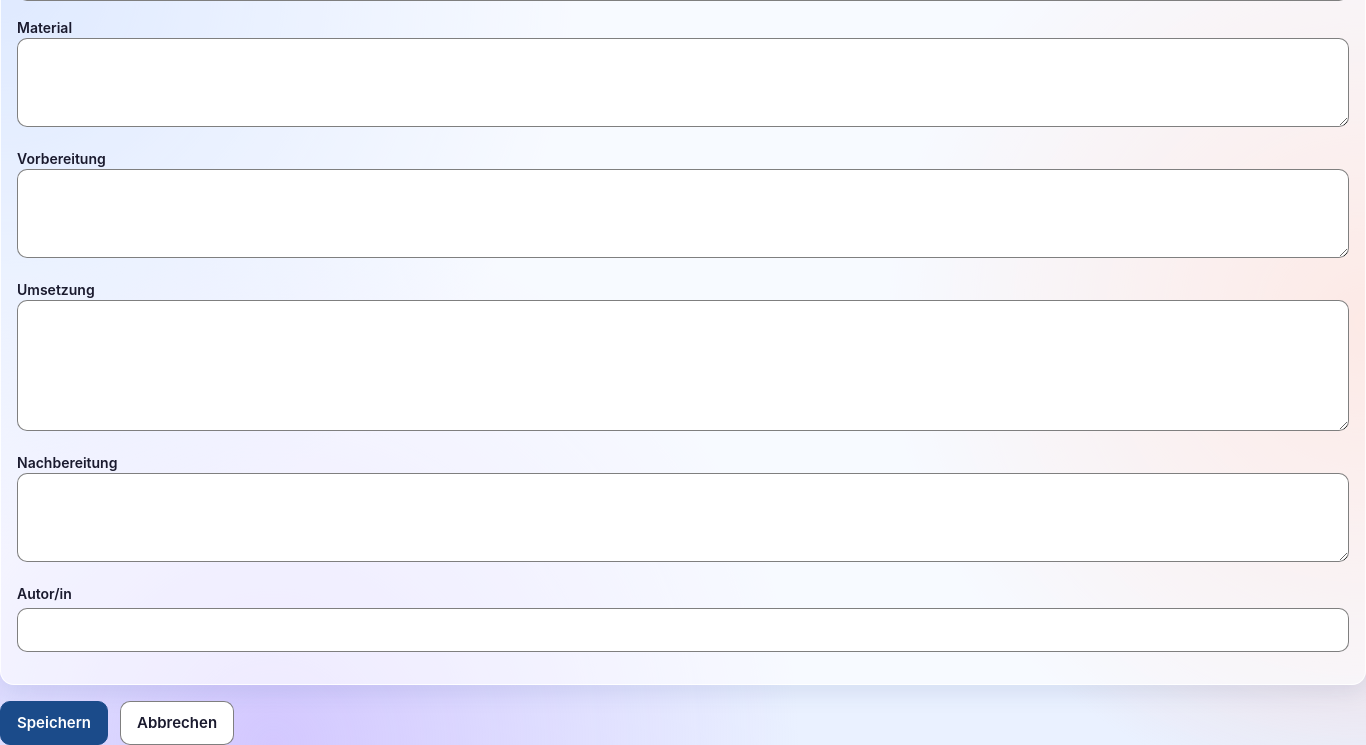
Test: Programmpunkt anlegen und bearbeiten › prüft Name und zeigt Fehler
(page scrolled)
Click the button "Speichern": (54, 723) [0,701,108,744]
(page scrolled)
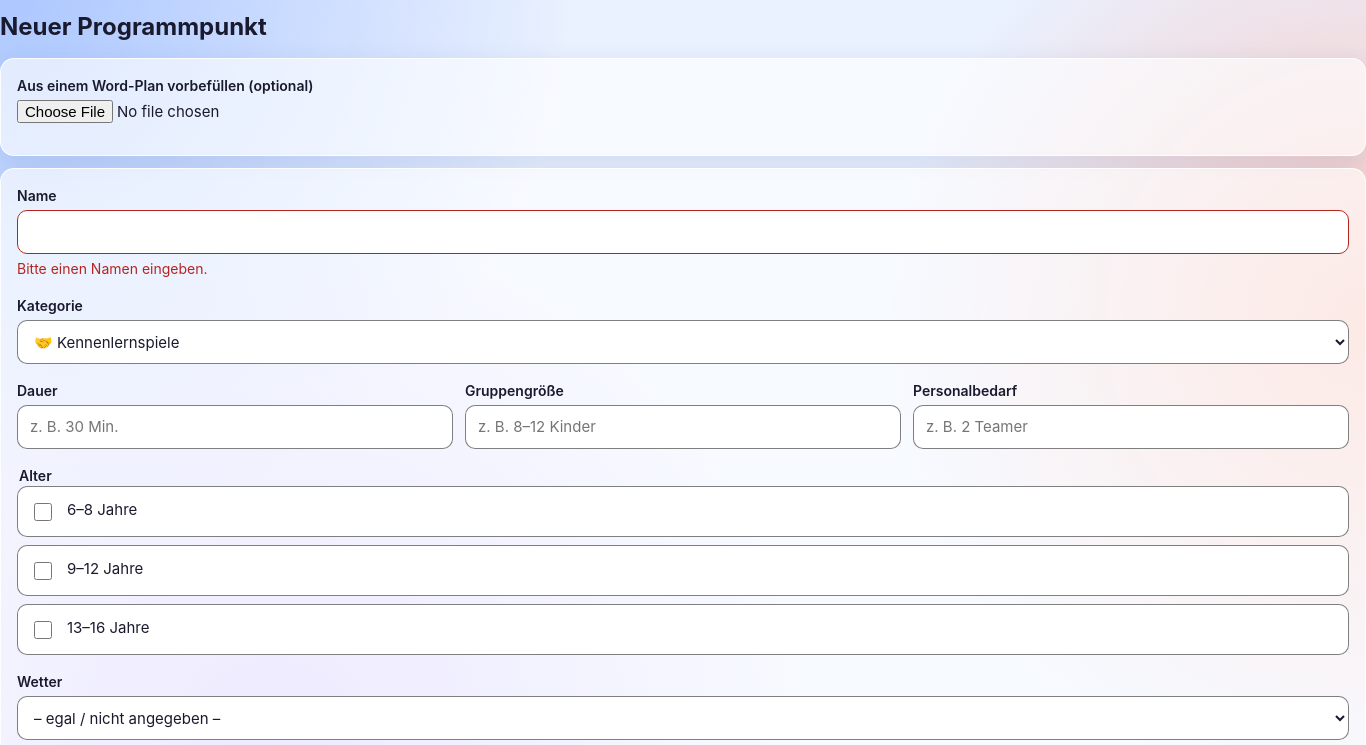
Expected: the text "Bitte einen Namen eingeben." is shown, [17,260,208,277]
